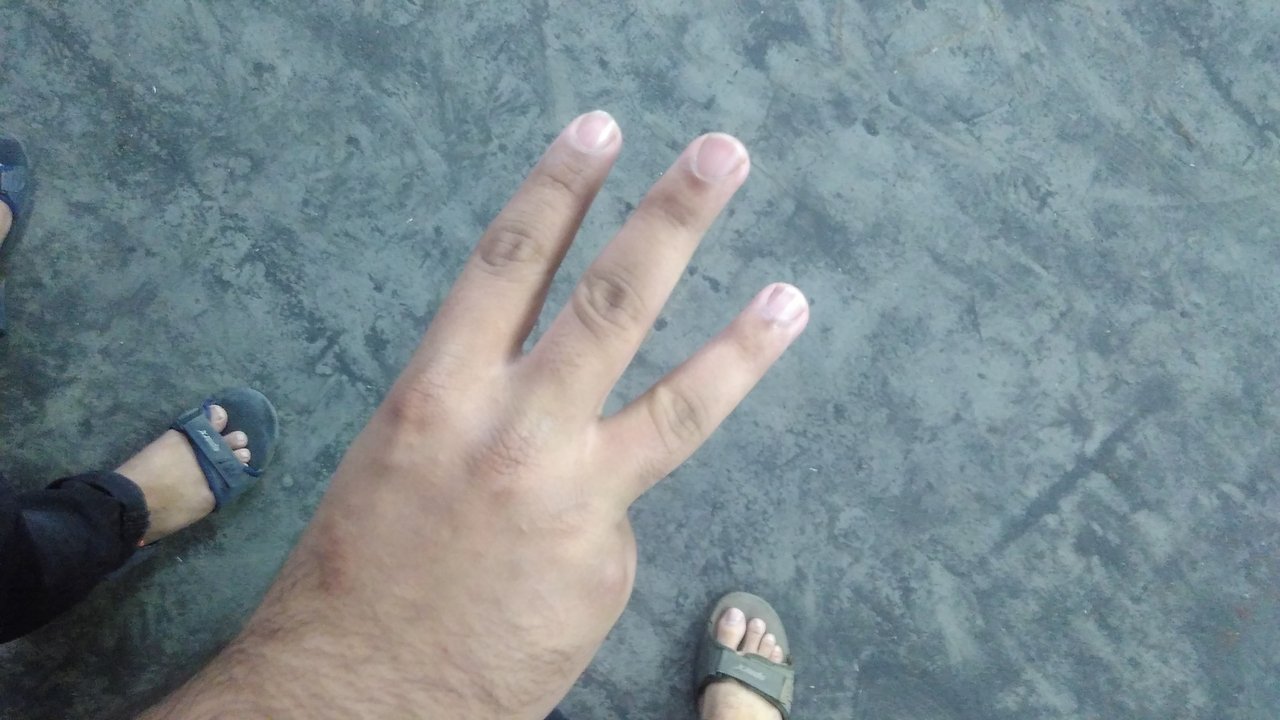fingertip: (674, 126, 762, 190), (740, 272, 822, 336), (562, 102, 632, 162)
